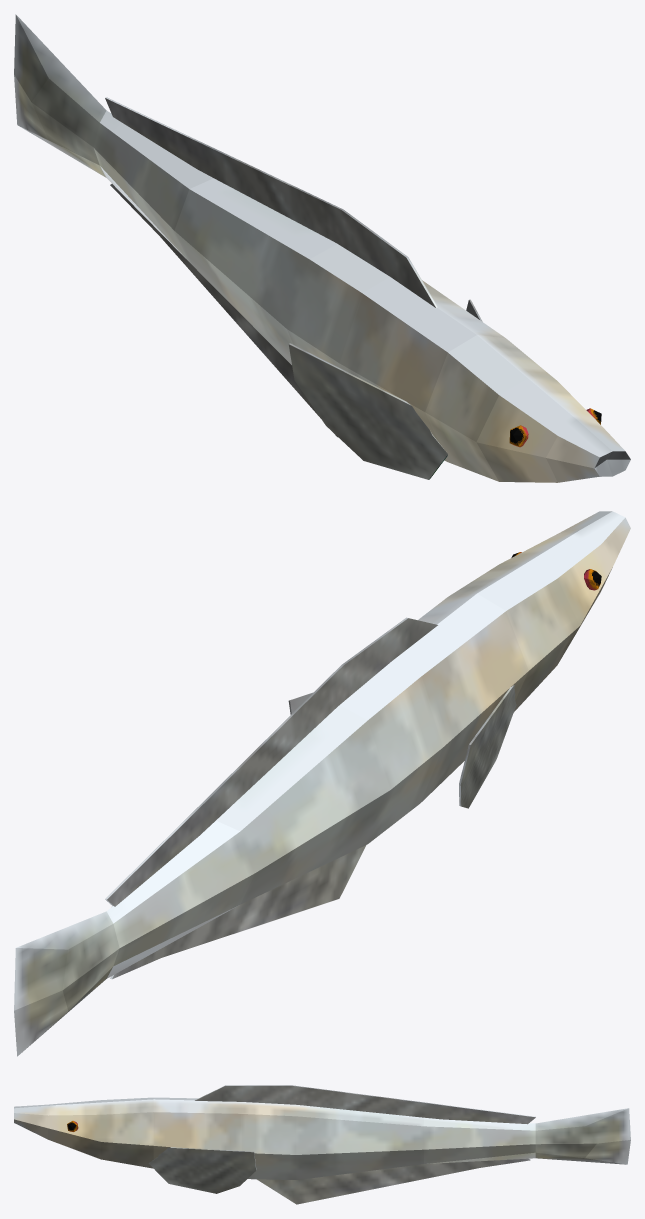
The model's file is IceFish.fbx.
The picture shows the model from 3 angles, top to bottom: view 1: azimuth 30°, elevation 25°; view 2: azimuth 150°, elevation 25°; view 3: azimuth 270°, elevation 25°; orthographic projection. The views are drawn at different scales.
Visible parts, largest first — view 1: IceFish, IceFins; view 2: IceFish, IceFins; view 3: IceFish, IceFins.
Boxes of the visible parts, left/top/right/bottom form: IceFish: left=14, top=14, right=630, bottom=482; IceFins: left=105, top=97, right=482, bottom=479; IceFish: left=14, top=511, right=630, bottom=1056; IceFins: left=105, top=617, right=516, bottom=979; IceFish: left=14, top=1097, right=630, bottom=1179; IceFins: left=148, top=1085, right=535, bottom=1204.
Size of the model in its own units: 0.163 by 0.1969 by 0.9278.
Materials: 3 (3 with a texture image).
